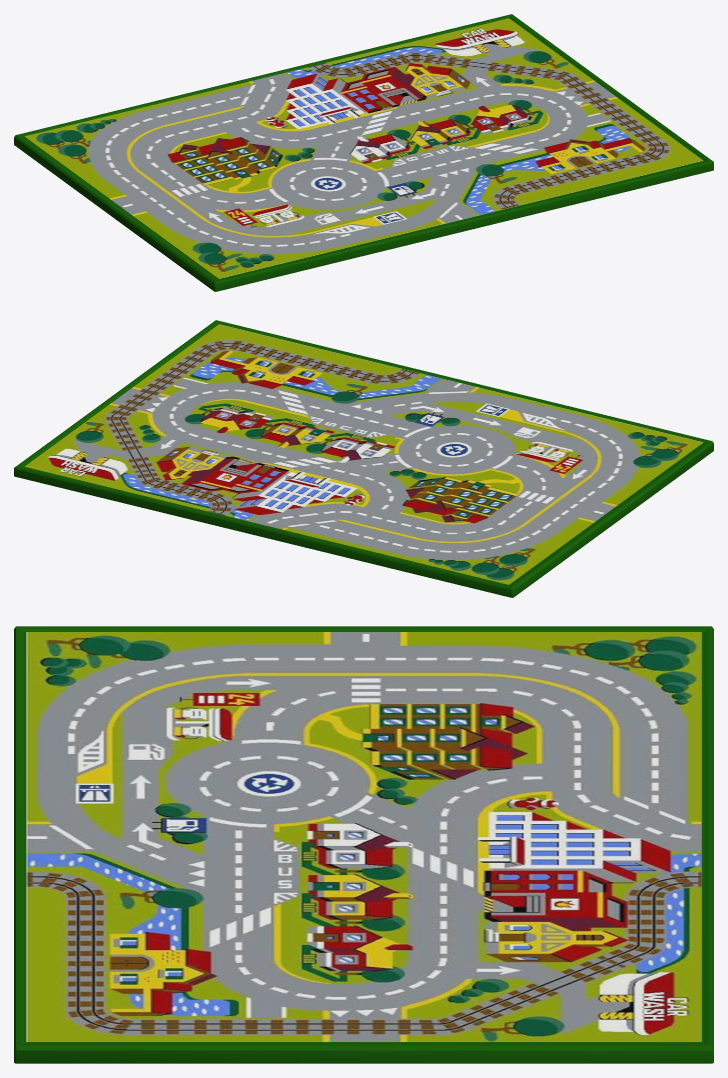
File: tapisvoiture.FBX
3 views of the same model, one above another, from view 1: azimuth 30°, elevation 25°; view 2: azimuth 150°, elevation 25°; view 3: azimuth 270°, elevation 25° (orthographic). The views are drawn at different scales.
Visible parts, largest first — view 1: Box010; view 2: Box010; view 3: Box010.
Boxes of the visible parts, x1,y1,x2,y2 form: Box010: [14, 14, 713, 291]; Box010: [14, 320, 713, 597]; Box010: [14, 626, 713, 1063].
Bounding box in the file's own units: 56.35 × 1 × 39.43.
